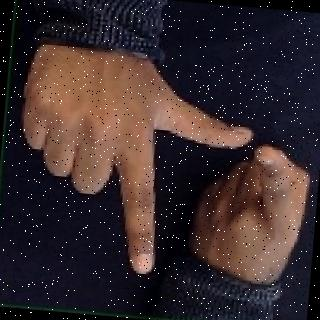J: (3, 50, 320, 290)
